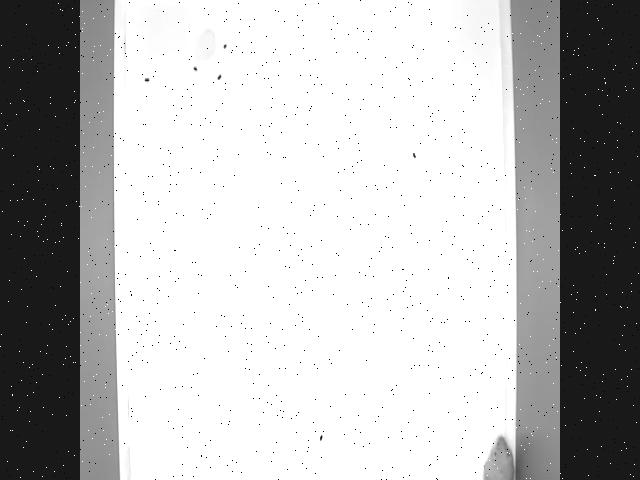Tikus: (424, 429, 516, 480)
